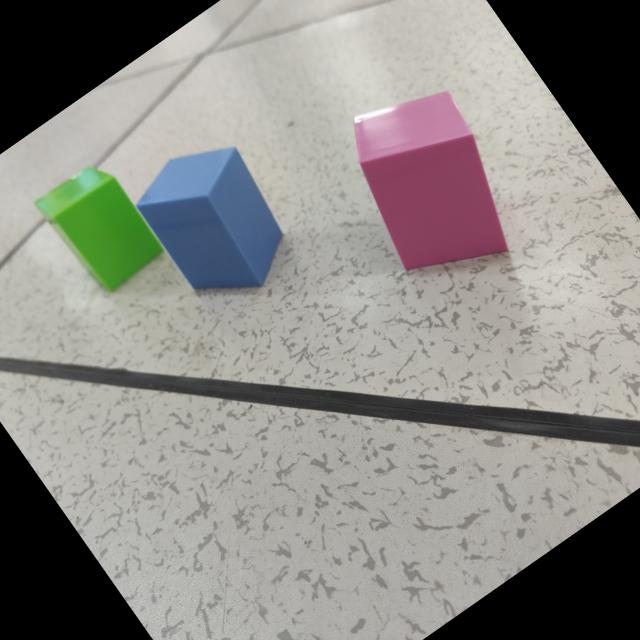blue: (137, 146, 284, 293)
green: (35, 167, 164, 293)
pink: (353, 91, 509, 273)
